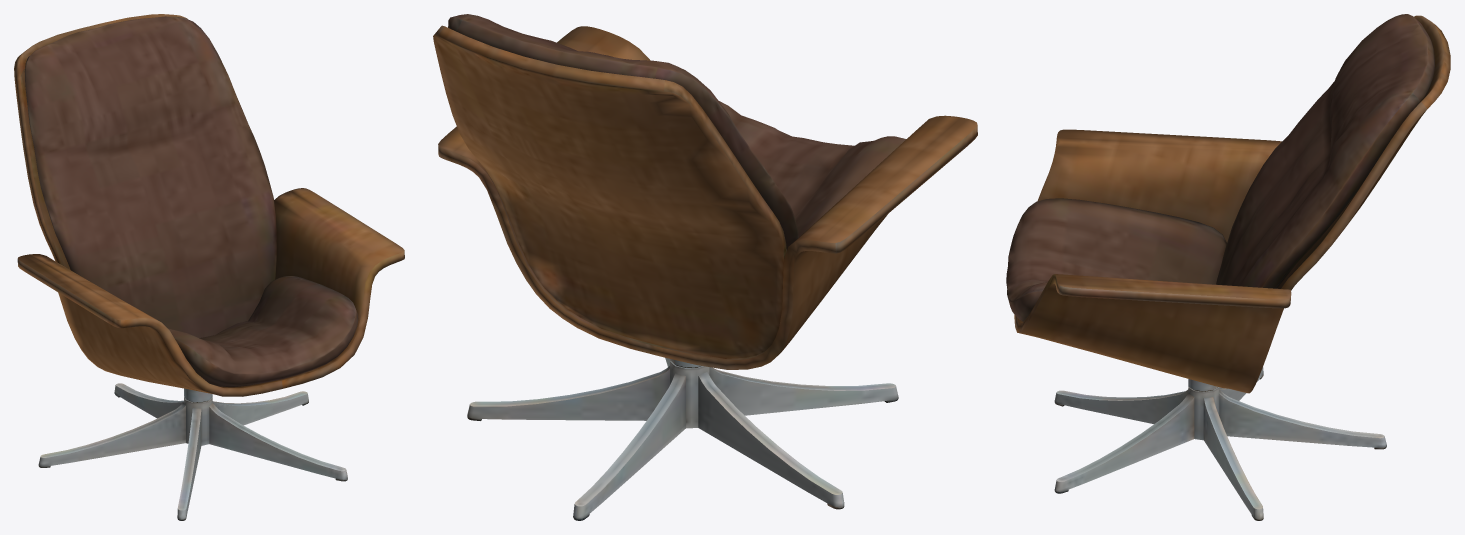
File: armchair-mid-century.lite.f77bcec2.glb
3 views of the same model, side by side, from view 1: azimuth 30°, elevation 25°; view 2: azimuth 150°, elevation 25°; view 3: azimuth 270°, elevation 25° (orthographic). The views are drawn at different scales.
Visible parts, largest first — view 1: model; view 2: model; view 3: model.
Part boxes in pixels (x1,y1,x2,y2): model: (14,14,404,520); model: (433,14,977,520); model: (1006,14,1450,520).
Size of the model in its own units: 1.01 by 1.17 by 1.19.
Materials: 1 (1 with a texture image).
